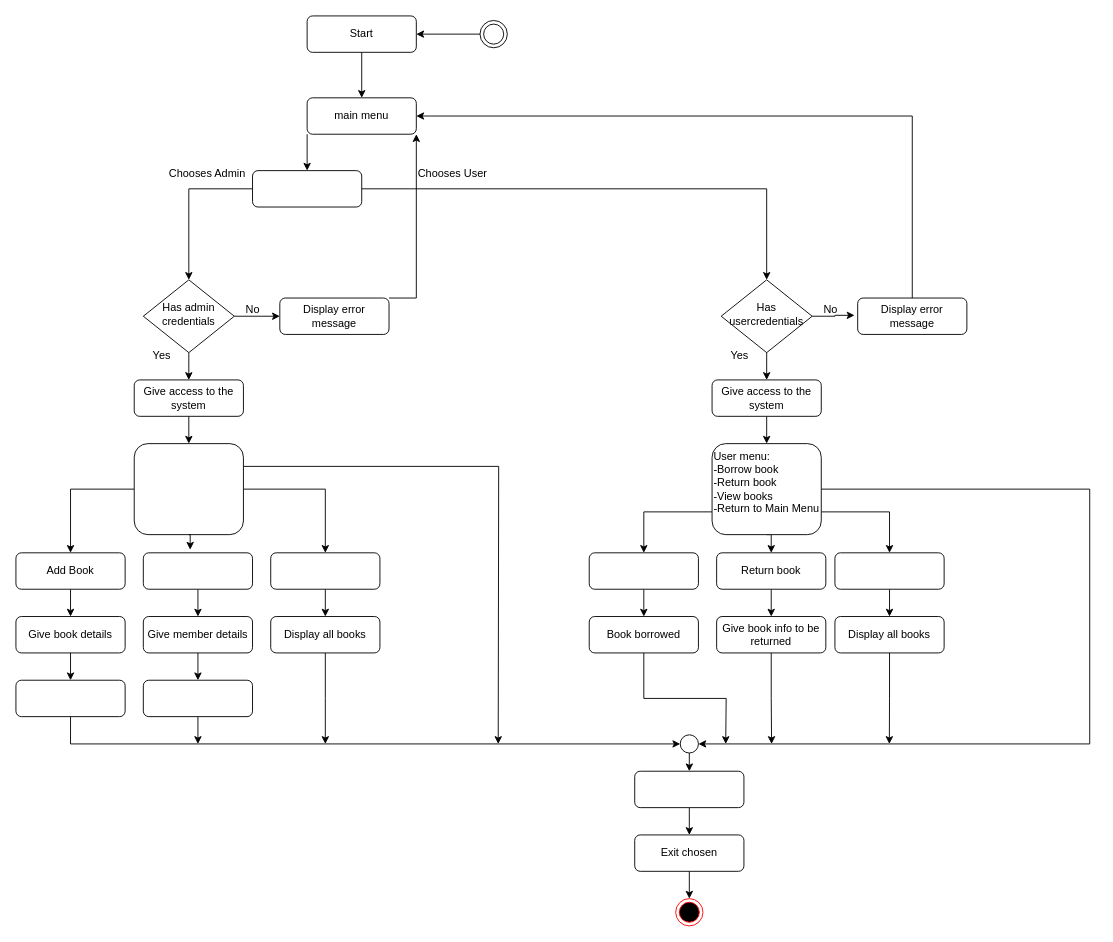
Image size: 1113x942. Some labels were removed from this diagram. The shapes that lost their labels are listed below. From the top down, each one's centre as x and y in pixels, then its label:
(x=307, y=188): Choose Admin or user
(x=188, y=489): Admin menu: -Add book -Add member -view books -return to Main Menu
(x=197, y=570): Add Member
(x=325, y=570): View all books
(x=643, y=570): Borrow book
(x=889, y=570): View books
(x=70, y=698): Add book to DB
(x=197, y=698): Add member to DB
(x=689, y=789): Back to Main Menu
